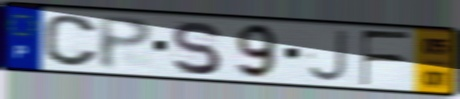9: (232, 22, 280, 81)
C: (42, 13, 102, 69)
F: (360, 29, 414, 88)
J: (306, 28, 349, 84)
P: (95, 14, 156, 72)
S: (168, 19, 224, 77)
